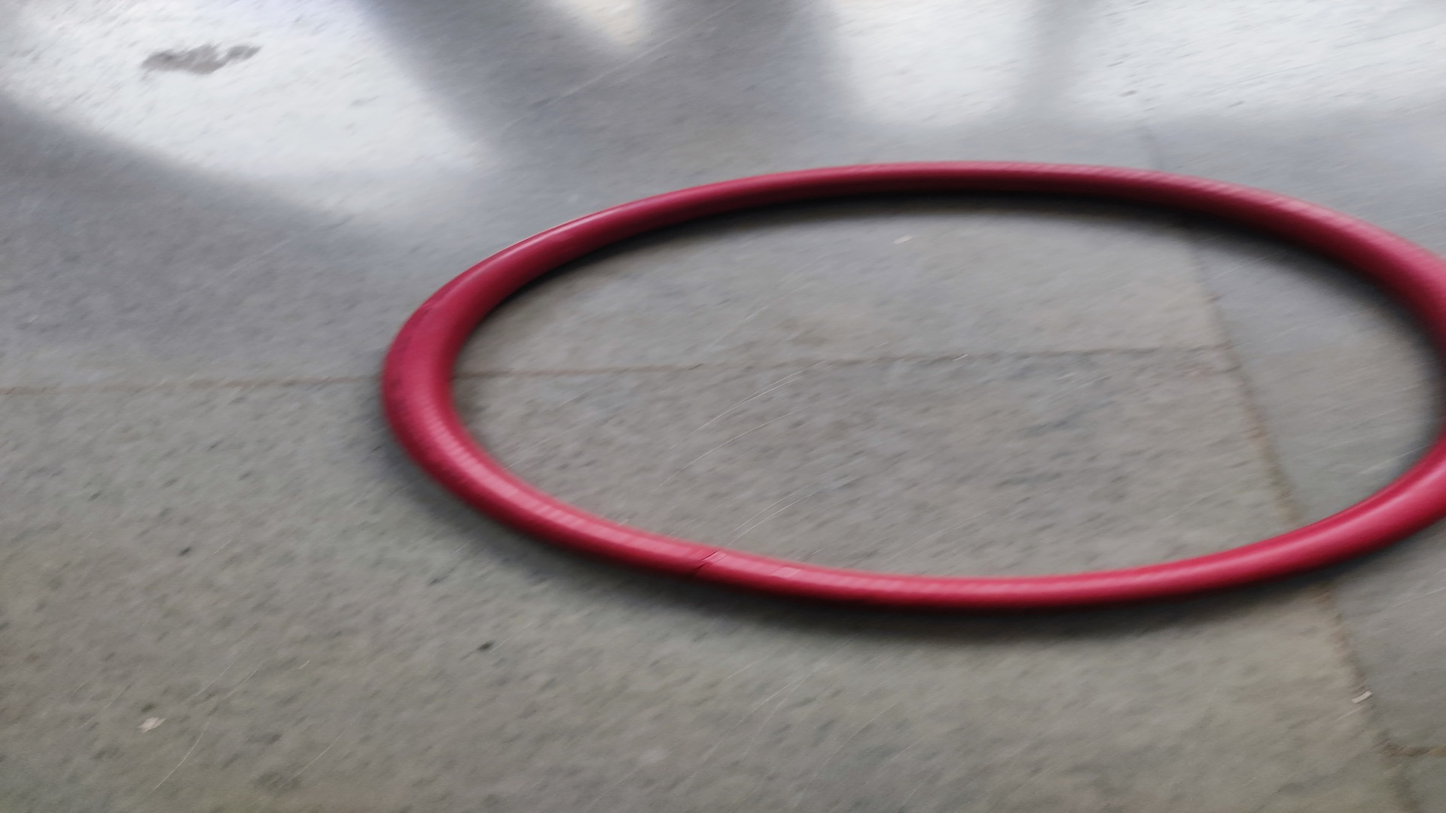Red ring: (379, 160, 1435, 607)
